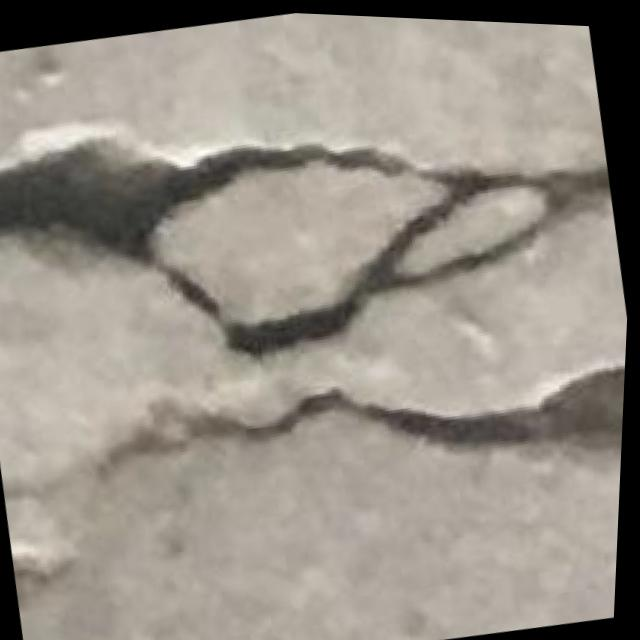Crack: (0, 0, 640, 640), (0, 42, 623, 458), (38, 283, 630, 559)
